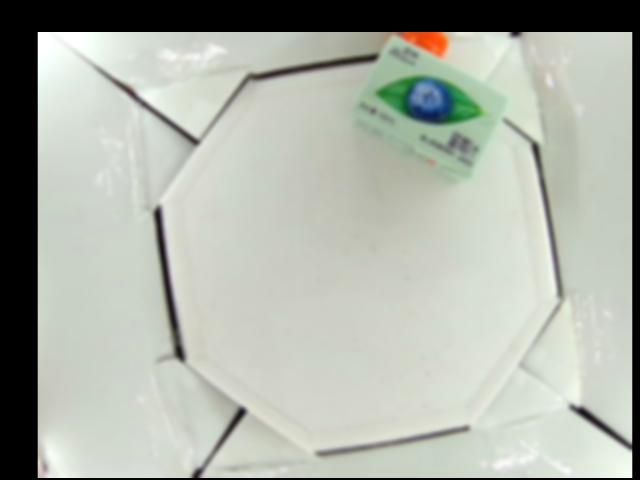Bottle: (352, 32, 511, 184)
